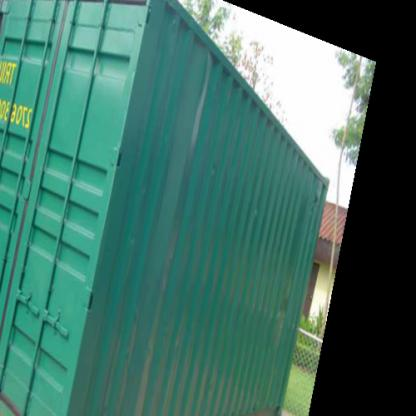Damage: (179, 49, 236, 153), (132, 279, 171, 413), (252, 273, 294, 347)
